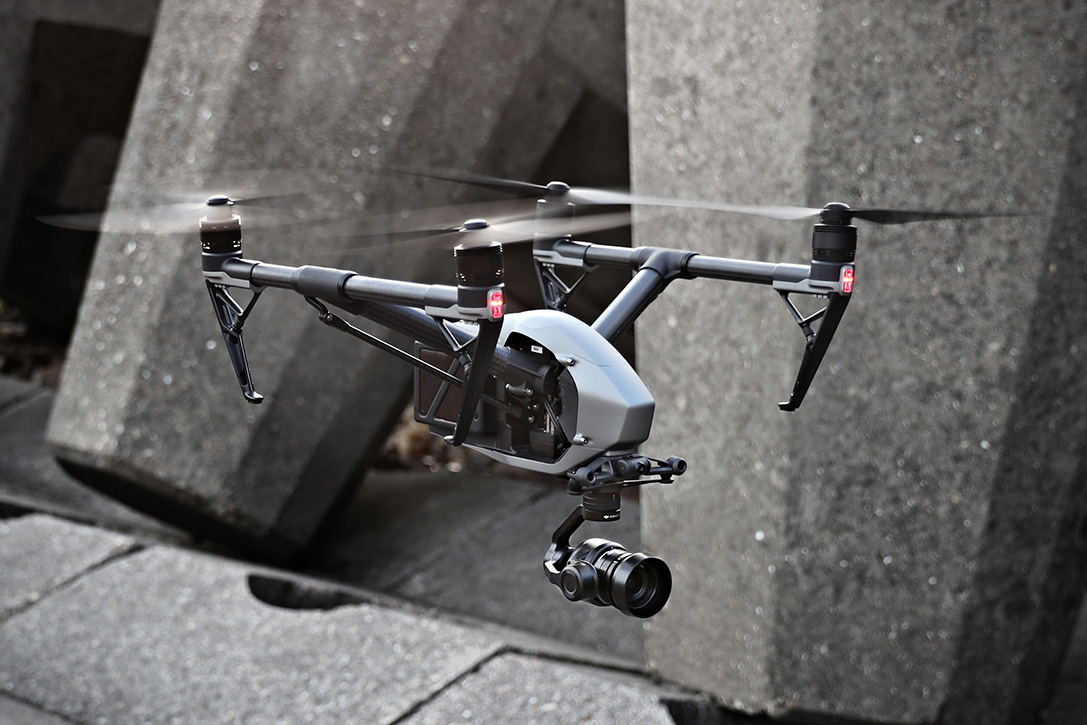drone: (30, 155, 1048, 626)
